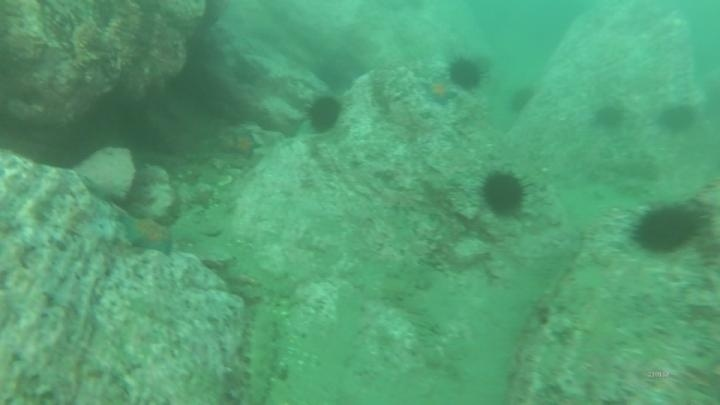echinus: (628, 200, 705, 257), (478, 168, 529, 219), (305, 94, 345, 134), (446, 55, 486, 93), (656, 101, 698, 137), (591, 101, 627, 132), (506, 84, 537, 115)
holothurian: (237, 304, 282, 405)
starfish: (119, 211, 176, 257), (223, 128, 263, 161), (420, 74, 459, 107)
